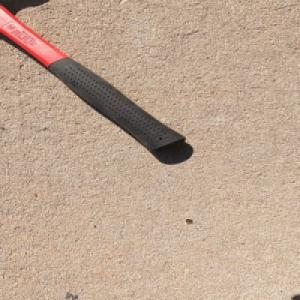Hammer: (0, 0, 191, 154)
